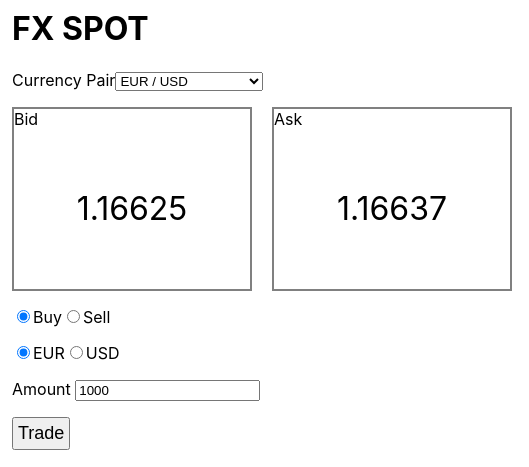
Test: deepEqual tests › should disable the trade button when no currency is selected
Step 1. Select "No currency selected" in the dropdown with test id "currency-dropdown" → (189, 81), box [115,72,263,91]
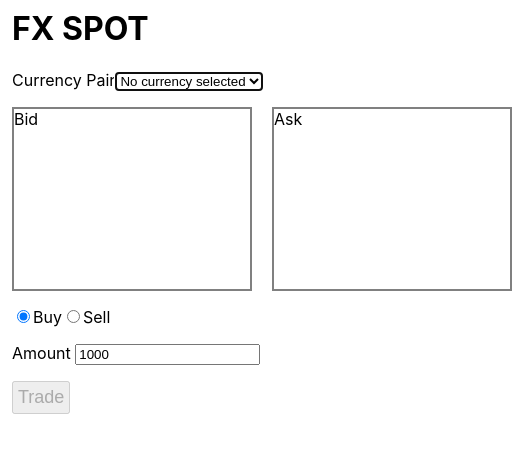
Now the button with test id "trade-button" is disabled, box [12,381,70,414]
